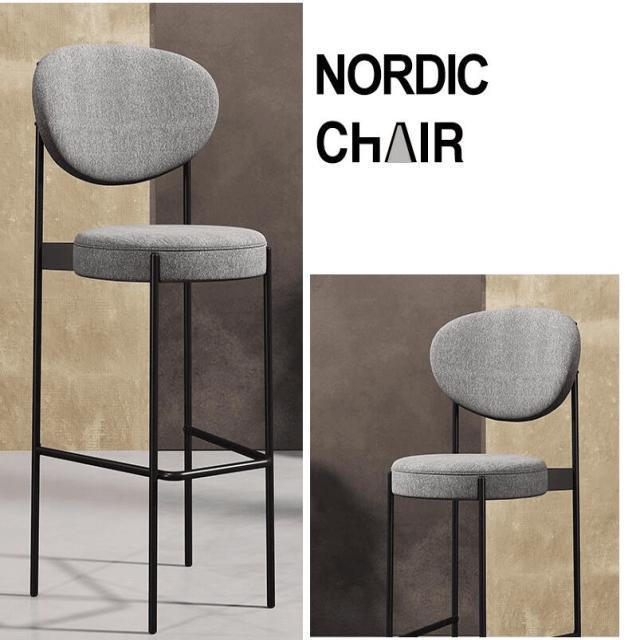chair: (27, 38, 279, 634), (383, 301, 585, 640), (34, 44, 264, 279), (388, 296, 580, 496)
